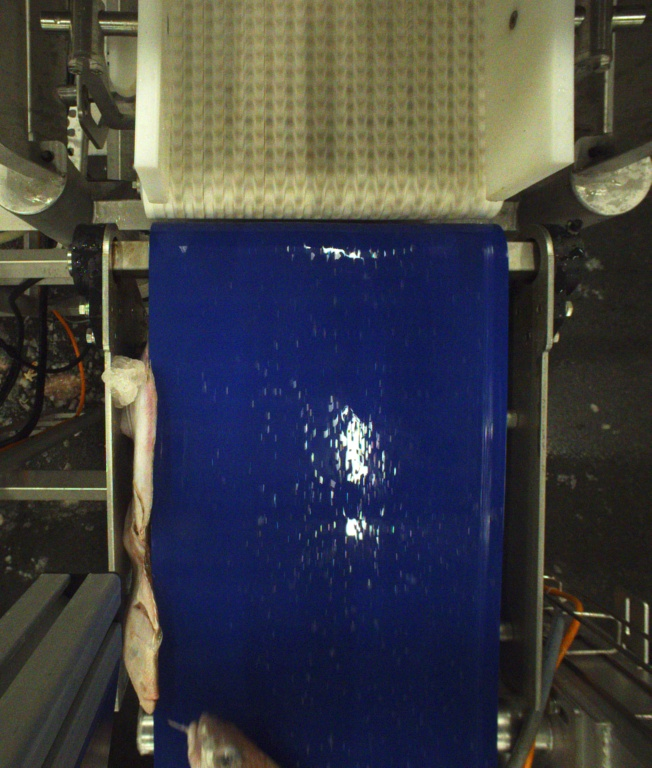BIB: (186, 718, 279, 768)
